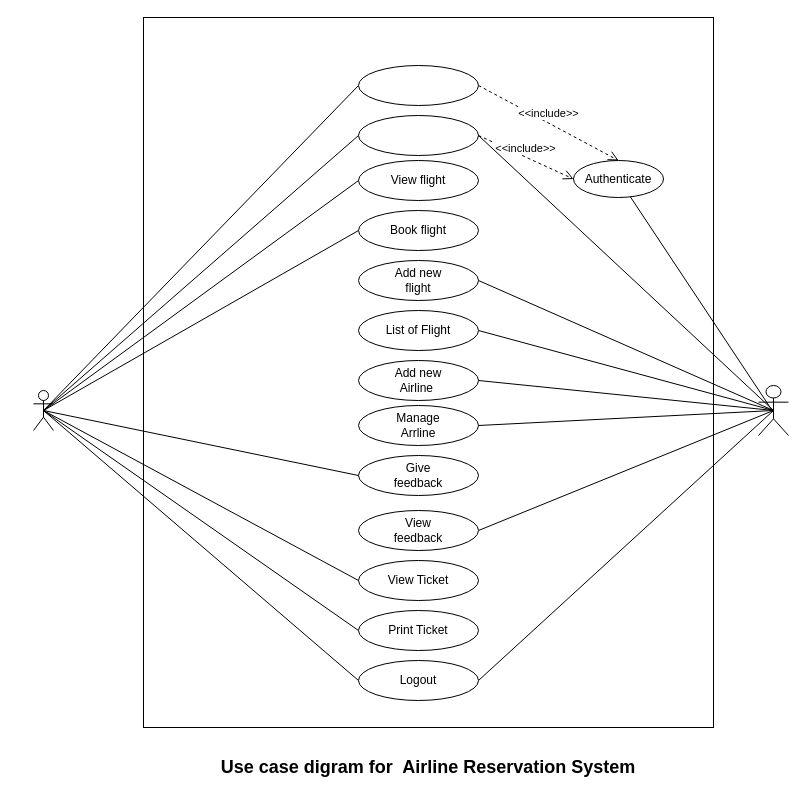
The diagram is 807 pixels wide and 800 high, and some of its shapes have lost their labels. The centre of each missing label's shape, as x and y in pixels:
Admin: the point at 773,410
Customer: the point at 43,410
Login: the point at 418,135
Register: the point at 418,85
